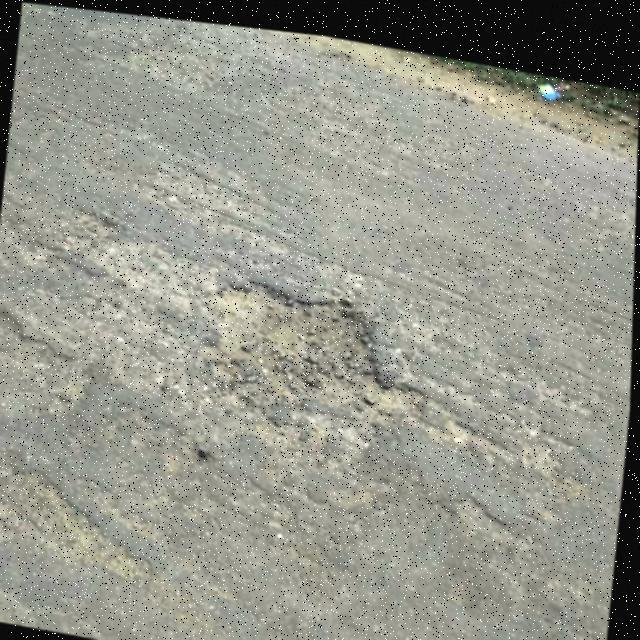pothole: (180, 244, 464, 440)
